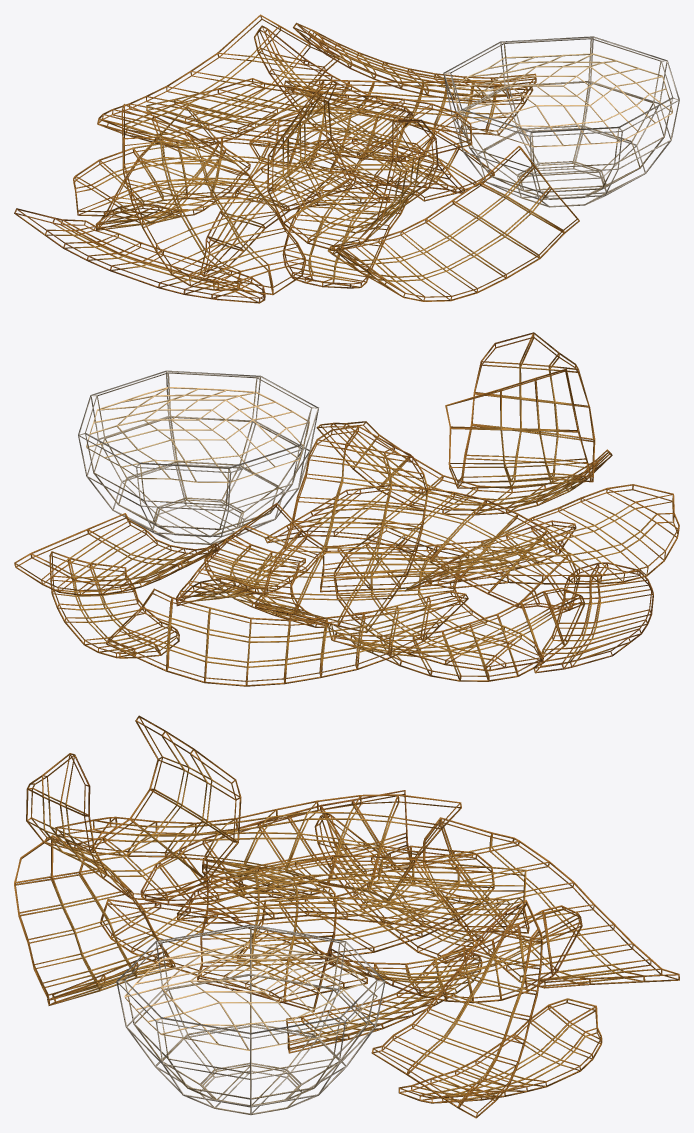
The model's file is arracachaWireframe.glb.
3 views of the same model, one above another, from view 1: azimuth 30°, elevation 25°; view 2: azimuth 150°, elevation 25°; view 3: azimuth 270°, elevation 25° (orthographic). The views are drawn at different scales.
Visible parts, largest first — view 1: polySurface22, pDisc3; view 2: polySurface22, pDisc3; view 3: polySurface22, pDisc3.
Part boxes in pixels (box(x1,y1,x2,y2)): polySurface22: box(14, 14, 579, 303); pDisc3: box(443, 36, 679, 207); polySurface22: box(14, 332, 679, 686); pDisc3: box(78, 370, 318, 544); polySurface22: box(14, 715, 679, 1118); pDisc3: box(116, 924, 385, 1115).
Size of the model in its own units: 1.92 by 0.6102 by 1.73.
Materials: 3 (3 with a texture image).
